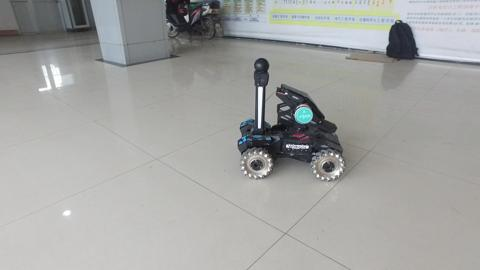bag: (383, 18, 419, 61)
chariot: (236, 56, 345, 181)
